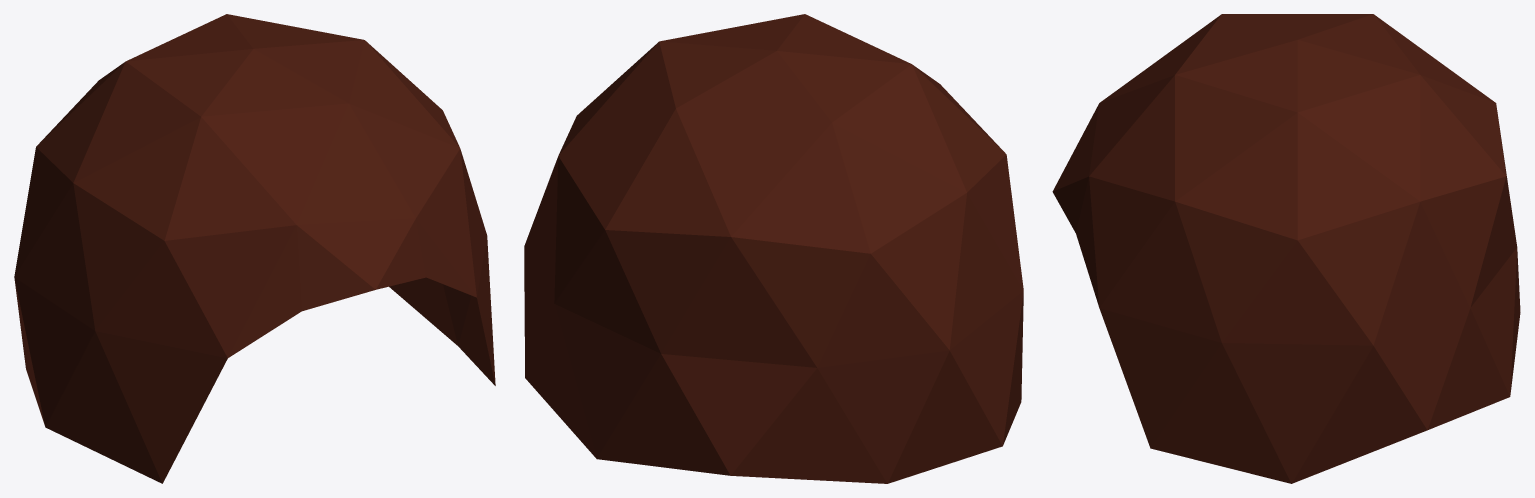
File: rough_leather_helmet.glb
The picture shows the model from 3 angles, left to right: view 1: azimuth 30°, elevation 25°; view 2: azimuth 150°, elevation 25°; view 3: azimuth 270°, elevation 25°; orthographic projection. The views are drawn at different scales.
Visible parts, largest first — view 1: Icosphere; view 2: Icosphere; view 3: Icosphere.
Boxes of the visible parts, <box> form: Icosphere: <box>14,14,495,483</box>; Icosphere: <box>524,14,1023,483</box>; Icosphere: <box>1052,14,1520,483</box>.
Size of the model in its own units: 1.95 by 1.55 by 1.91.
